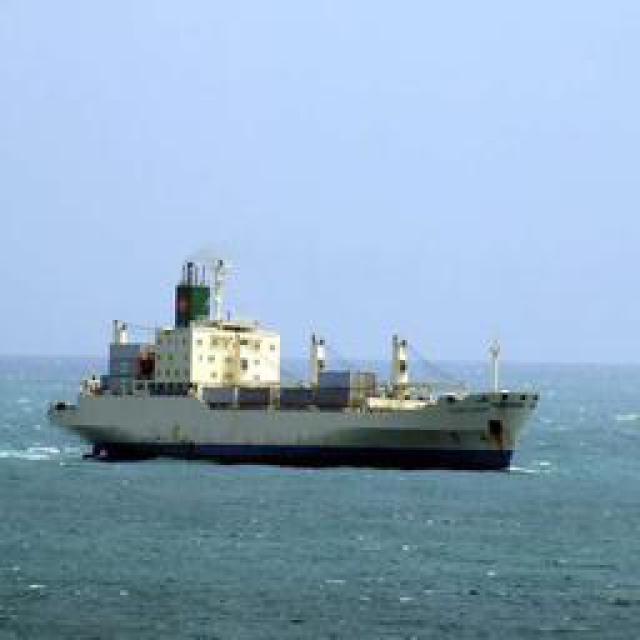Ship: (57, 249, 537, 469)
